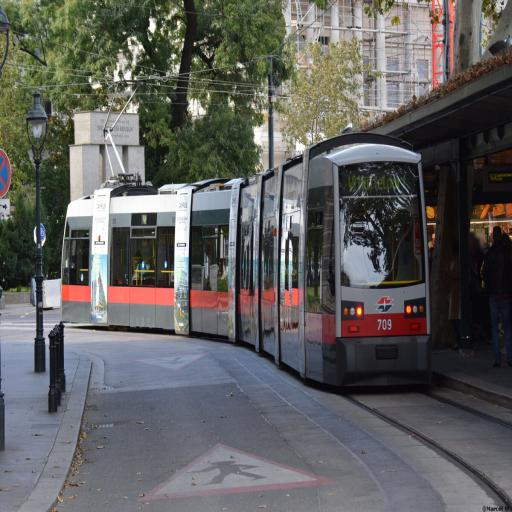ULF: (61, 133, 439, 388)
